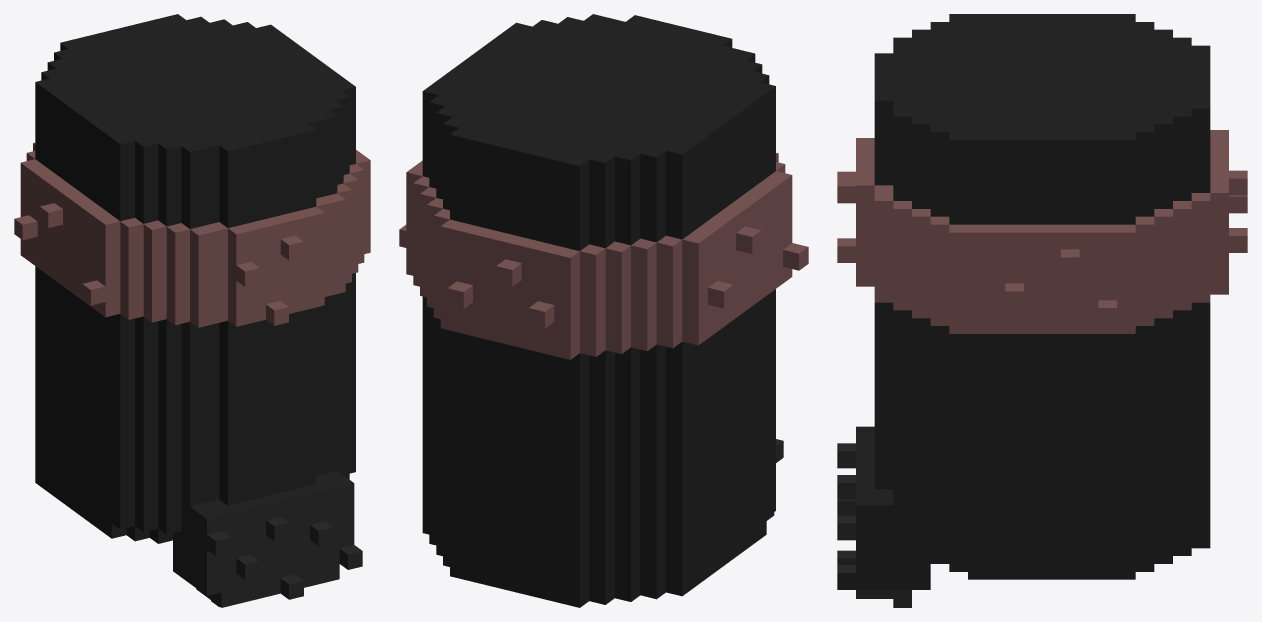
The model's file is SM_ForgeGolem_Right_Upper_Leg.fbx.
3 renders of one model, left to right at view 1: azimuth 30°, elevation 25°; view 2: azimuth 150°, elevation 25°; view 3: azimuth 270°, elevation 25°, orthographic. The views are drawn at different scales.
Visible parts, largest first — view 1: SM_ForgeGolem_Right_Upper_Leg; view 2: SM_ForgeGolem_Right_Upper_Leg; view 3: SM_ForgeGolem_Right_Upper_Leg.
Part boxes in pixels (x1=…): SM_ForgeGolem_Right_Upper_Leg: x1=14, y1=14, x2=370, y2=607; SM_ForgeGolem_Right_Upper_Leg: x1=399, y1=14, x2=808, y2=607; SM_ForgeGolem_Right_Upper_Leg: x1=837, y1=14, x2=1247, y2=607.
Bounding box in the file's own units: 200 × 300 × 220.
